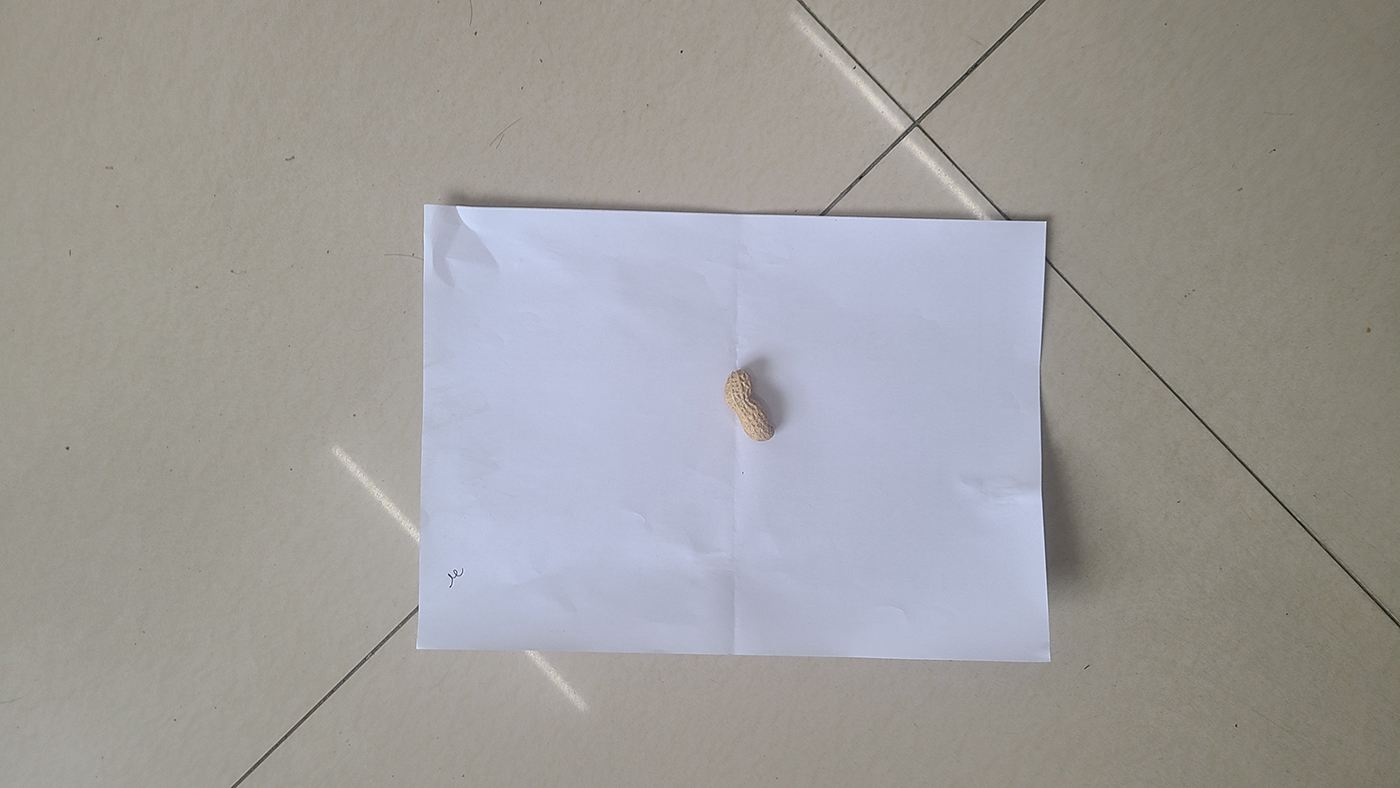h: (724, 369, 777, 442)
